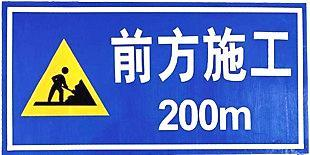sign: (5, 3, 307, 150)
